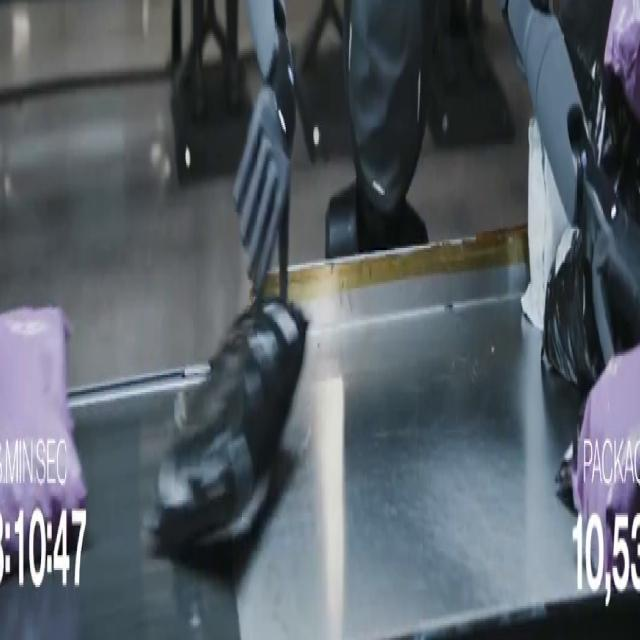package: (148, 299, 307, 553), (544, 170, 639, 392), (0, 308, 86, 542), (558, 0, 639, 220), (573, 348, 639, 572), (543, 227, 603, 392), (522, 119, 568, 330), (605, 0, 639, 120)
